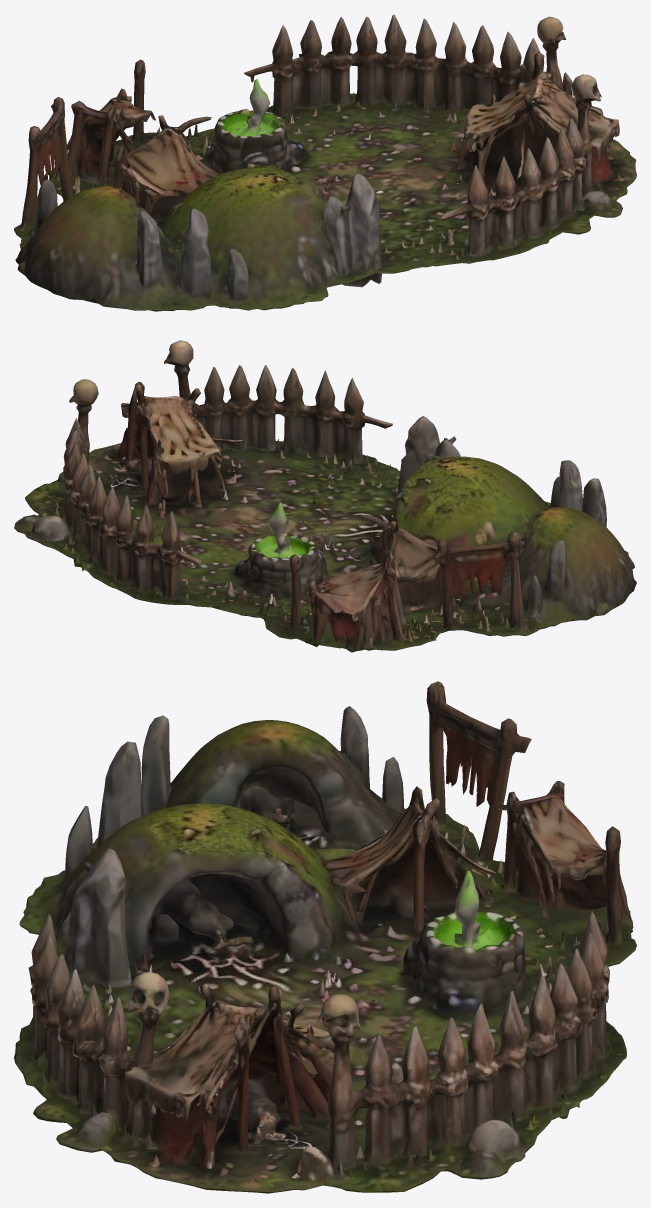
Rendered from lm_barrow_camp.glb.
The picture shows the model from 3 angles, top to bottom: view 1: azimuth 30°, elevation 25°; view 2: azimuth 150°, elevation 25°; view 3: azimuth 270°, elevation 25°; orthographic projection. The views are drawn at different scales.
Parts seen in each view (by area): view 1: tripo_node_6b95d5ff-1ce6-46c3-8cd3-8b7fdfb58858; view 2: tripo_node_6b95d5ff-1ce6-46c3-8cd3-8b7fdfb58858; view 3: tripo_node_6b95d5ff-1ce6-46c3-8cd3-8b7fdfb58858.
Boxes of the visible parts, x1,y1,x2,y2 form: tripo_node_6b95d5ff-1ce6-46c3-8cd3-8b7fdfb58858: [14, 14, 636, 311]; tripo_node_6b95d5ff-1ce6-46c3-8cd3-8b7fdfb58858: [14, 340, 636, 652]; tripo_node_6b95d5ff-1ce6-46c3-8cd3-8b7fdfb58858: [14, 681, 636, 1193].
Size of the model in its own units: 9 by 2.12 by 5.84.
1 material, 1 textured.
